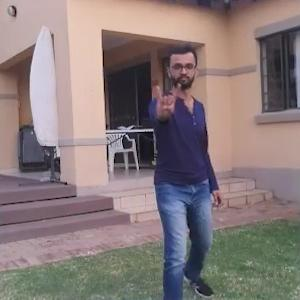takeoff-hand: (151, 76, 180, 118)
